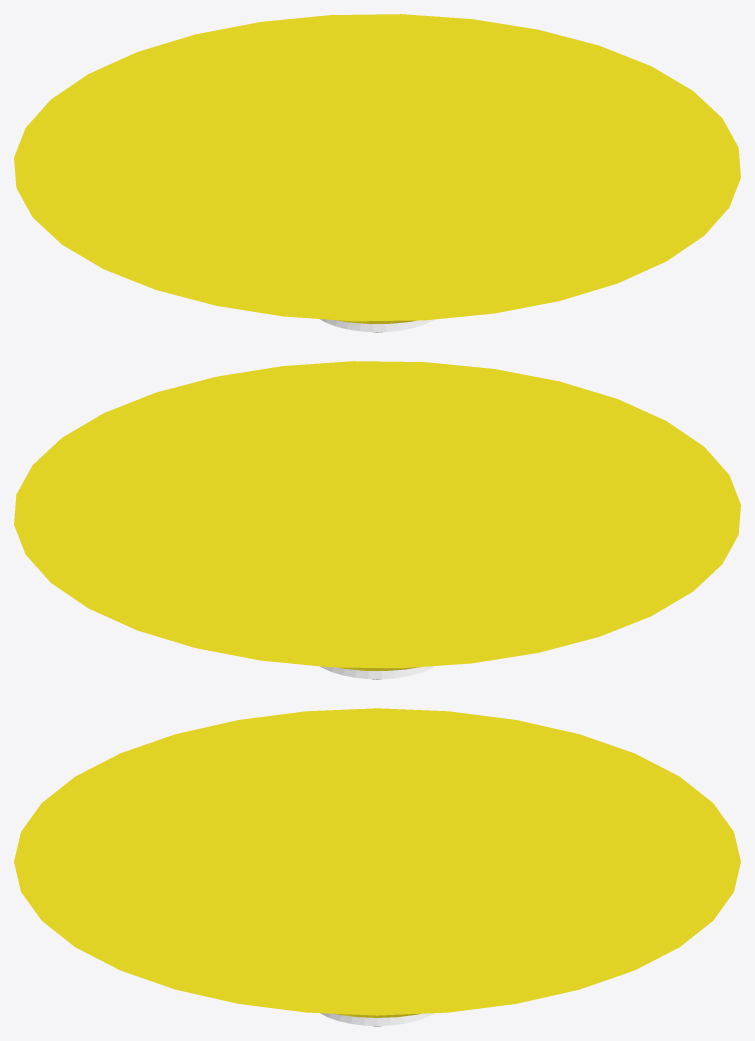
File: SM_Lamp.fbx
3 views of the same model, one above another, from view 1: azimuth 30°, elevation 25°; view 2: azimuth 150°, elevation 25°; view 3: azimuth 270°, elevation 25° (orthographic).
Visible parts, largest first — view 1: Lamp; view 2: Lamp; view 3: Lamp.
Boxes of the visible parts, x1=… form: Lamp: x1=14, y1=14, x2=740, y2=332; Lamp: x1=14, y1=361, x2=740, y2=679; Lamp: x1=14, y1=708, x2=740, y2=1026.
Bounding box in the file's own units: 100 × 24.3 × 100.
